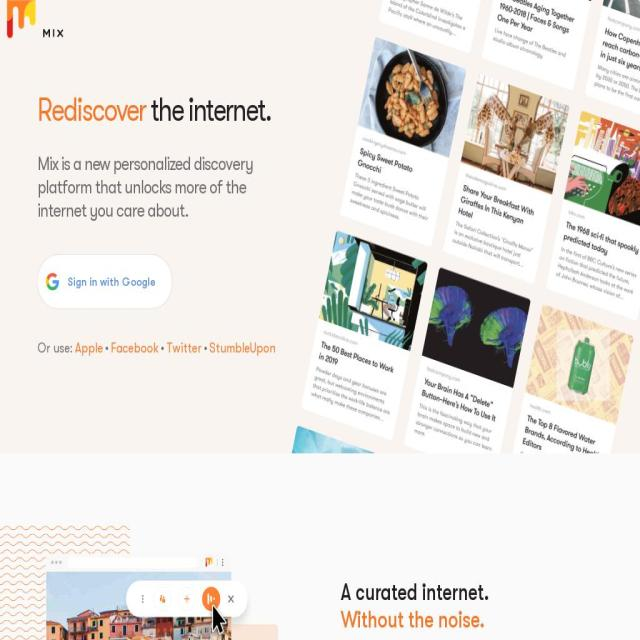button: (37, 255, 172, 308)
image: (230, 571, 576, 640), (230, 571, 576, 640), (230, 571, 576, 640), (230, 571, 576, 640), (230, 571, 576, 640), (46, 571, 391, 640), (0, 571, 299, 640), (30, 577, 343, 633), (208, 580, 230, 640)
link: (210, 340, 276, 356), (111, 340, 166, 356), (167, 340, 210, 356), (75, 340, 111, 356)
text: (38, 152, 288, 222), (151, 91, 271, 129), (38, 91, 150, 129), (340, 579, 489, 606), (340, 607, 485, 633), (230, 621, 415, 640), (68, 272, 156, 291), (38, 340, 72, 356)
